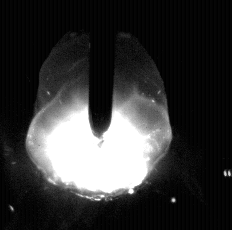arame: (89, 0, 114, 138)
poca: (26, 0, 170, 230)
